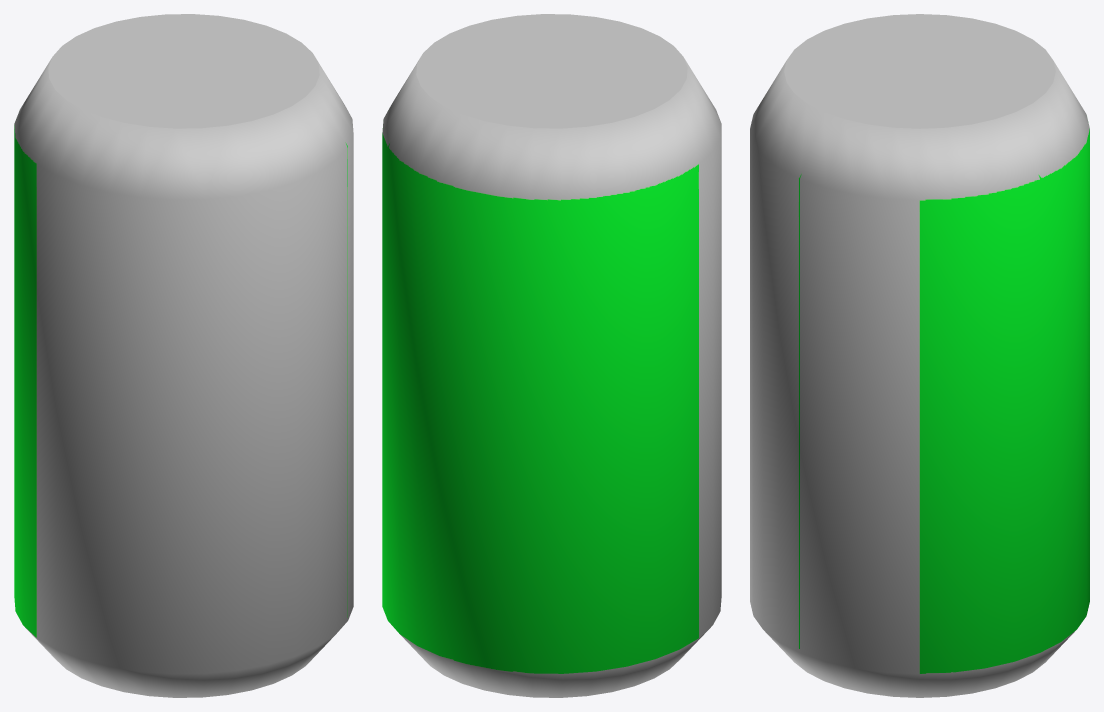
The model's file is greenCan.fbx.
The picture shows the model from 3 angles, left to right: view 1: azimuth 30°, elevation 25°; view 2: azimuth 150°, elevation 25°; view 3: azimuth 270°, elevation 25°; orthographic projection.
Parts seen in each view (by area): view 1: Cylinder; view 2: Cylinder; view 3: Cylinder.
Part boxes in pixels (x1,y1,x2,y2): Cylinder: [14, 14, 353, 697]; Cylinder: [382, 14, 721, 697]; Cylinder: [750, 14, 1089, 697].
Size of the model in its own units: 0.066 by 0.066 by 0.122.
